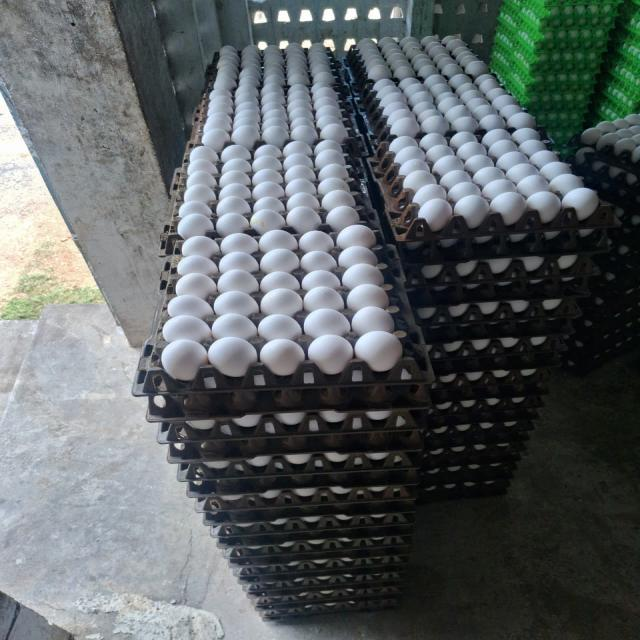egg_tray: (372, 40, 599, 231), (137, 246, 429, 392), (135, 287, 431, 394), (373, 130, 614, 254), (374, 134, 614, 256), (161, 140, 379, 254), (159, 225, 406, 315), (163, 414, 421, 498), (147, 370, 539, 422), (159, 164, 379, 256), (565, 114, 639, 372), (370, 129, 570, 224), (350, 36, 535, 136), (359, 36, 535, 137), (159, 224, 403, 296), (179, 440, 421, 512), (192, 44, 354, 151), (369, 126, 553, 218), (162, 178, 379, 255), (178, 452, 419, 521), (179, 442, 421, 508), (370, 128, 545, 216), (392, 204, 615, 273), (167, 432, 422, 492), (360, 72, 552, 150), (158, 412, 425, 468), (159, 420, 423, 476), (160, 192, 379, 256), (187, 468, 419, 526), (169, 443, 421, 496), (185, 85, 359, 161), (191, 472, 419, 529), (187, 83, 364, 156), (425, 317, 573, 404), (191, 470, 419, 526), (407, 256, 598, 321), (407, 254, 599, 318), (157, 412, 424, 457), (492, 0, 617, 95), (409, 256, 588, 322), (146, 382, 430, 422), (492, 1, 616, 92), (409, 290, 579, 356), (191, 479, 419, 528), (179, 463, 416, 510), (231, 533, 409, 594), (198, 43, 348, 112), (157, 408, 426, 446), (235, 558, 404, 618), (168, 428, 421, 468), (492, 43, 597, 138), (223, 85, 363, 156), (157, 411, 425, 448), (403, 252, 599, 302), (405, 256, 600, 306), (492, 14, 601, 102), (219, 518, 412, 566), (205, 43, 347, 108), (233, 550, 407, 603), (494, 38, 600, 124), (180, 138, 365, 186), (425, 370, 548, 442), (425, 369, 549, 440), (494, 64, 597, 148), (224, 534, 411, 580), (211, 506, 414, 548), (211, 507, 414, 548), (495, 50, 597, 131), (495, 37, 603, 112), (423, 416, 532, 490), (495, 66, 593, 148), (568, 114, 639, 224), (211, 508, 415, 546), (192, 46, 291, 124), (399, 227, 607, 264), (429, 332, 564, 388), (233, 553, 408, 596), (413, 298, 580, 343), (217, 527, 412, 565), (211, 512, 414, 546), (181, 138, 362, 175), (431, 352, 559, 404), (204, 42, 339, 91), (233, 554, 407, 592), (501, 0, 619, 54), (216, 516, 413, 548), (233, 553, 408, 588), (577, 162, 639, 260), (423, 414, 534, 468), (185, 130, 357, 163), (223, 536, 411, 566), (233, 554, 408, 586), (247, 582, 401, 618), (427, 336, 565, 376), (565, 296, 639, 370), (429, 382, 547, 428), (421, 434, 525, 486), (421, 421, 527, 472), (233, 554, 408, 584), (425, 408, 537, 454), (244, 572, 404, 604), (252, 586, 401, 620), (431, 368, 549, 410), (431, 368, 548, 408), (241, 570, 405, 598), (430, 366, 549, 404), (251, 585, 401, 615), (569, 148, 638, 213), (252, 586, 401, 616), (565, 314, 639, 374), (419, 460, 519, 504), (418, 460, 517, 503), (243, 572, 403, 598), (249, 583, 401, 610), (581, 246, 639, 315), (419, 454, 519, 494), (429, 393, 543, 428), (567, 304, 639, 358), (257, 594, 401, 621), (429, 390, 543, 424), (423, 438, 525, 474), (431, 394, 543, 426), (595, 198, 639, 279), (602, 2, 639, 98), (417, 468, 515, 504), (344, 53, 377, 158), (257, 596, 401, 620), (505, 0, 619, 30), (419, 460, 519, 494), (258, 598, 401, 621), (258, 597, 401, 620), (425, 420, 533, 450), (587, 246, 639, 308), (260, 598, 400, 620), (529, 100, 587, 152), (596, 218, 639, 286), (419, 472, 512, 503), (592, 247, 639, 308), (530, 104, 587, 152), (158, 166, 185, 257), (345, 40, 394, 90), (592, 66, 637, 120), (598, 215, 639, 274), (431, 422, 523, 448), (581, 286, 639, 327), (187, 90, 224, 152), (158, 166, 183, 257), (302, 50, 348, 98), (591, 74, 638, 120), (192, 52, 219, 132), (192, 52, 218, 127), (203, 46, 241, 96), (230, 554, 333, 570), (339, 527, 400, 554), (308, 582, 375, 606), (253, 592, 309, 612), (183, 465, 219, 495), (295, 295, 358, 312), (167, 166, 185, 222), (283, 474, 319, 498), (265, 536, 297, 563), (381, 84, 409, 114), (595, 100, 633, 120), (551, 178, 580, 197), (353, 285, 389, 300), (225, 542, 255, 559), (240, 576, 275, 590), (383, 37, 415, 52), (370, 500, 395, 519), (303, 530, 333, 544), (397, 56, 417, 76), (487, 183, 516, 196), (543, 200, 560, 222), (479, 172, 499, 190), (376, 544, 406, 556), (349, 416, 370, 433), (559, 256, 584, 270), (463, 216, 483, 232), (343, 550, 375, 560), (455, 262, 480, 274), (333, 570, 357, 582), (545, 50, 581, 58), (512, 168, 536, 180), (255, 416, 275, 430), (190, 146, 213, 158), (317, 232, 333, 249), (565, 33, 583, 48), (521, 180, 534, 200), (327, 452, 356, 460), (540, 38, 563, 48), (301, 528, 324, 538), (623, 43, 637, 58), (511, 206, 525, 221), (314, 459, 330, 472), (555, 322, 572, 334), (214, 176, 229, 189), (383, 584, 399, 596), (456, 46, 469, 60), (187, 240, 205, 250), (449, 308, 467, 318), (310, 528, 328, 538), (239, 234, 257, 244), (327, 566, 349, 574), (606, 209, 616, 226), (432, 220, 449, 230), (339, 508, 348, 526), (546, 167, 569, 174), (366, 514, 386, 522), (279, 174, 295, 184), (450, 214, 460, 230), (345, 226, 371, 232), (430, 187, 444, 198), (283, 232, 297, 243), (200, 461, 221, 468), (539, 155, 555, 164), (245, 540, 257, 552), (295, 547, 308, 558), (318, 105, 338, 112), (409, 78, 423, 88), (497, 138, 511, 148), (221, 421, 233, 432), (165, 280, 175, 293), (456, 174, 472, 182), (226, 96, 235, 110), (447, 39, 461, 48), (430, 349, 444, 358), (467, 217, 478, 228), (268, 512, 281, 521), (405, 42, 419, 50), (375, 514, 391, 521), (311, 528, 322, 538), (252, 556, 262, 566), (546, 167, 560, 174), (212, 460, 228, 466), (311, 454, 323, 462), (231, 524, 244, 531), (307, 417, 317, 426), (471, 450, 486, 456), (533, 154, 542, 164), (546, 155, 557, 163), (297, 488, 314, 493), (291, 98, 305, 104), (263, 490, 277, 496), (310, 548, 317, 560), (533, 326, 543, 334), (381, 298, 391, 306), (351, 516, 364, 522), (450, 310, 461, 317), (386, 556, 405, 560), (385, 514, 404, 518), (467, 246, 482, 251), (333, 576, 345, 582), (527, 385, 535, 394), (264, 416, 273, 424), (223, 90, 232, 98), (271, 456, 283, 462), (252, 457, 265, 462), (556, 102, 564, 110), (283, 518, 299, 522), (385, 512, 401, 516), (275, 464, 283, 472), (483, 232, 491, 240), (497, 96, 513, 100), (299, 488, 308, 495), (292, 56, 299, 65), (165, 334, 175, 340), (299, 272, 305, 282), (234, 148, 244, 154), (341, 576, 351, 582), (205, 518, 215, 524), (245, 588, 259, 592), (513, 170, 520, 178), (286, 278, 293, 286), (438, 427, 446, 434), (303, 516, 317, 520), (358, 492, 365, 500), (214, 526, 228, 530), (294, 106, 305, 111), (512, 130, 523, 135), (372, 514, 383, 519), (612, 286, 621, 292), (307, 61, 313, 70), (261, 90, 270, 96), (228, 504, 241, 508), (372, 452, 389, 455), (309, 324, 314, 334), (333, 487, 343, 492), (249, 456, 259, 461), (281, 306, 288, 313), (203, 147, 210, 154), (275, 155, 282, 162), (185, 444, 197, 448), (205, 158, 217, 162), (385, 416, 391, 424), (467, 186, 475, 192), (336, 266, 342, 274), (321, 496, 327, 504), (313, 180, 319, 188), (205, 151, 213, 157), (411, 450, 419, 456), (629, 220, 637, 226), (322, 76, 328, 84), (545, 94, 553, 100), (483, 132, 491, 138), (379, 255, 388, 260), (321, 543, 330, 548), (212, 96, 223, 100), (549, 59, 560, 63), (169, 310, 176, 316), (221, 204, 227, 211), (371, 52, 378, 58), (283, 582, 290, 588), (631, 60, 636, 68), (223, 544, 243, 546), (215, 482, 220, 490), (597, 256, 603, 262), (512, 156, 521, 160), (435, 266, 441, 272), (563, 326, 569, 332), (267, 586, 276, 590), (277, 546, 286, 550), (371, 586, 380, 590), (265, 490, 272, 495), (240, 427, 251, 430), (274, 518, 285, 521), (281, 496, 285, 504), (485, 372, 493, 376), (416, 234, 424, 238), (376, 444, 384, 448), (402, 442, 410, 446), (207, 204, 215, 208), (200, 164, 205, 170), (155, 333, 160, 339), (155, 326, 161, 331), (198, 421, 204, 426), (243, 416, 253, 419), (307, 157, 312, 163), (329, 524, 334, 530), (382, 504, 387, 510), (263, 100, 270, 104), (247, 184, 254, 188), (496, 201, 500, 208), (418, 223, 423, 228), (443, 279, 448, 284), (214, 274, 219, 279), (531, 199, 536, 204), (281, 157, 286, 162), (277, 99, 282, 104), (287, 585, 295, 588), (510, 328, 514, 334), (505, 436, 511, 440), (531, 130, 537, 134), (501, 162, 507, 166), (329, 527, 335, 531), (341, 520, 347, 524), (409, 444, 415, 448), (443, 232, 449, 236), (594, 202, 597, 210), (260, 540, 266, 544), (283, 496, 286, 504), (269, 548, 277, 551), (489, 490, 495, 494), (413, 458, 417, 464), (292, 44, 296, 50), (432, 492, 436, 498), (279, 518, 291, 520), (309, 611, 320, 613), (581, 211, 584, 218), (190, 241, 197, 244), (199, 236, 206, 239), (321, 498, 326, 502), (553, 154, 557, 159), (523, 153, 528, 157), (353, 528, 358, 532), (321, 497, 326, 501), (384, 546, 389, 550), (325, 170, 330, 174), (548, 94, 553, 98), (317, 170, 322, 174), (616, 208, 621, 212), (353, 579, 357, 584), (303, 534, 308, 538), (379, 526, 383, 531), (461, 308, 466, 312), (221, 63, 227, 66), (387, 278, 390, 284), (392, 550, 401, 552), (404, 306, 407, 312), (426, 56, 429, 62), (397, 52, 403, 55), (385, 43, 391, 46), (284, 82, 290, 85), (556, 336, 559, 342), (397, 538, 403, 541), (262, 490, 270, 492), (543, 58, 547, 62), (514, 50, 518, 54), (519, 45, 523, 49), (402, 326, 406, 330), (241, 420, 245, 424), (522, 170, 530, 172), (613, 64, 617, 68), (209, 242, 213, 246), (241, 580, 257, 581), (345, 514, 349, 518), (357, 461, 361, 465), (340, 554, 344, 558), (395, 494, 399, 498), (237, 102, 241, 106), (271, 150, 279, 152), (453, 320, 461, 322), (221, 482, 225, 486), (451, 235, 455, 239), (517, 396, 521, 400), (377, 520, 381, 524), (221, 518, 225, 522), (441, 224, 445, 228), (385, 538, 393, 540), (539, 389, 544, 392), (531, 58, 536, 61), (360, 496, 365, 499), (441, 384, 446, 387), (331, 452, 334, 457), (157, 333, 160, 338), (198, 276, 203, 279), (252, 589, 257, 592), (226, 241, 231, 244), (587, 211, 590, 216), (252, 590, 257, 593), (506, 260, 509, 265), (394, 577, 401, 579), (583, 227, 585, 234), (382, 446, 389, 448), (496, 54, 499, 58), (283, 585, 287, 588), (309, 581, 313, 584), (354, 578, 358, 581), (256, 154, 259, 158), (309, 126, 312, 130), (256, 115, 259, 119), (307, 112, 310, 116), (537, 41, 541, 44), (423, 268, 426, 272), (205, 138, 209, 141), (387, 577, 393, 579), (239, 206, 245, 208), (210, 231, 214, 234), (402, 531, 406, 534), (238, 97, 242, 100), (206, 179, 210, 182), (219, 176, 223, 179), (227, 241, 231, 244), (519, 316, 525, 318), (606, 276, 610, 279), (387, 158, 390, 162), (408, 278, 412, 281), (469, 469, 473, 472), (571, 74, 575, 77), (154, 330, 157, 334), (263, 100, 269, 102), (293, 83, 297, 86), (194, 456, 197, 460), (320, 532, 323, 536), (380, 567, 384, 570), (305, 604, 311, 606), (328, 416, 333, 418), (512, 164, 517, 166), (397, 416, 402, 418), (159, 326, 161, 331), (559, 103, 561, 108), (272, 234, 277, 236), (321, 558, 326, 560), (321, 552, 326, 554), (302, 542, 307, 544), (547, 342, 549, 347), (324, 132, 327, 135), (397, 326, 400, 329), (532, 278, 541, 279), (313, 509, 316, 512), (405, 505, 408, 508), (266, 87, 269, 90), (314, 553, 317, 556), (530, 65, 533, 68), (210, 483, 213, 486), (263, 585, 266, 588), (533, 165, 536, 168), (333, 116, 337, 118), (527, 380, 531, 382), (357, 322, 359, 326), (173, 304, 177, 306), (229, 111, 233, 113), (205, 432, 209, 434), (365, 422, 367, 426), (245, 416, 253, 417), (373, 568, 375, 572), (251, 522, 255, 524), (319, 516, 321, 520), (268, 564, 272, 566), (357, 552, 361, 554), (263, 512, 265, 516), (287, 512, 291, 514), (197, 147, 205, 148), (563, 138, 567, 140), (227, 168, 231, 170), (287, 454, 291, 456), (532, 374, 534, 378), (311, 236, 315, 238), (243, 80, 247, 82), (231, 74, 235, 76), (365, 554, 369, 556), (405, 117, 409, 119), (441, 78, 443, 82), (541, 146, 545, 148), (487, 318, 491, 320), (430, 412, 432, 416), (277, 554, 281, 556), (431, 185, 438, 186), (273, 586, 276, 588), (523, 133, 525, 136), (262, 150, 265, 152), (511, 392, 514, 394), (397, 317, 399, 320), (234, 424, 237, 426), (398, 92, 401, 94), (341, 450, 343, 453), (372, 448, 375, 450), (367, 448, 370, 450), (291, 414, 294, 416), (571, 270, 574, 272), (383, 270, 386, 272), (379, 263, 381, 266), (384, 506, 387, 508), (247, 522, 250, 524), (285, 150, 287, 153), (324, 146, 327, 148), (421, 51, 423, 54), (378, 158, 381, 160), (387, 49, 390, 51), (274, 444, 277, 446), (439, 497, 445, 498), (432, 496, 435, 498), (509, 69, 511, 72), (525, 376, 528, 378), (311, 232, 313, 235), (276, 92, 279, 94), (305, 84, 308, 86), (316, 46, 318, 49), (329, 530, 332, 532), (434, 224, 437, 226), (246, 416, 251, 417), (423, 92, 428, 93), (525, 380, 527, 382), (549, 67, 553, 68), (255, 310, 257, 312), (196, 110, 198, 112), (467, 242, 469, 244), (445, 184, 447, 186), (312, 418, 314, 420), (301, 286, 303, 288), (245, 589, 249, 590), (202, 215, 204, 217), (209, 155, 213, 156), (239, 562, 243, 563), (265, 464, 267, 466), (391, 547, 395, 548), (409, 502, 411, 504), (341, 170, 343, 172), (272, 157, 274, 159), (265, 146, 267, 148), (499, 491, 503, 492), (187, 246, 188, 250), (221, 200, 223, 202), (435, 322, 439, 323), (501, 307, 505, 308), (403, 70, 405, 72), (281, 169, 285, 170), (633, 216, 635, 218), (599, 224, 603, 225), (417, 62, 419, 64), (563, 140, 565, 142), (232, 461, 234, 463), (461, 224, 463, 226), (472, 437, 474, 439), (351, 130, 352, 134), (367, 532, 369, 534), (331, 526, 333, 528), (263, 236, 265, 238), (351, 464, 353, 466), (360, 454, 362, 456), (362, 578, 364, 580), (253, 550, 257, 551), (335, 548, 337, 550), (288, 546, 290, 548), (265, 545, 269, 546), (385, 38, 387, 40), (637, 166, 639, 168), (389, 553, 391, 555), (329, 581, 332, 582), (434, 354, 437, 355), (496, 189, 499, 190), (341, 455, 344, 456), (532, 207, 535, 208), (236, 54, 237, 57), (524, 370, 527, 371), (292, 298, 293, 300), (270, 503, 272, 504), (476, 184, 477, 186), (434, 282, 435, 284), (427, 432, 429, 433), (338, 573, 340, 574), (194, 456, 195, 458), (195, 458, 196, 460), (396, 461, 397, 463), (252, 554, 254, 555), (363, 540, 365, 541), (294, 158, 295, 160), (293, 146, 294, 148), (329, 193, 330, 195), (558, 270, 559, 272), (227, 487, 228, 489), (352, 47, 353, 49), (396, 202, 397, 204), (396, 78, 397, 80), (371, 49, 372, 51), (218, 473, 219, 475), (374, 452, 375, 454), (291, 244, 292, 246), (551, 178, 553, 179), (253, 93, 254, 95), (629, 194, 630, 195), (558, 160, 559, 161), (452, 321, 453, 322), (345, 527, 346, 528), (391, 489, 392, 490), (218, 96, 219, 97), (287, 558, 288, 559), (333, 61, 334, 62), (170, 460, 171, 461), (509, 222, 510, 223), (427, 432, 428, 433), (429, 422, 430, 423), (390, 578, 394, 578), (441, 407, 444, 407), (563, 319, 563, 319), (274, 103, 277, 103), (256, 90, 257, 90), (259, 163, 259, 163), (256, 125, 257, 125), (499, 332, 501, 332), (425, 294, 425, 295), (567, 292, 568, 292), (389, 514, 394, 514), (216, 336, 221, 336), (363, 314, 364, 314), (203, 308, 203, 308), (323, 290, 323, 290), (227, 474, 228, 474), (281, 416, 281, 417), (507, 430, 507, 430), (458, 375, 459, 375), (510, 190, 512, 190), (503, 176, 503, 176), (509, 168, 510, 168), (498, 167, 499, 167), (251, 101, 252, 101), (496, 263, 498, 263), (315, 490, 316, 490), (427, 448, 428, 448), (520, 392, 521, 392), (578, 128, 579, 128), (633, 92, 635, 92), (532, 274, 533, 274), (223, 274, 223, 275), (312, 272, 313, 272), (221, 92, 222, 92), (270, 563, 272, 563), (210, 254, 212, 254), (280, 234, 281, 234), (229, 214, 230, 214), (204, 212, 207, 212), (371, 519, 373, 519), (286, 519, 289, 519), (480, 452, 481, 452), (463, 410, 467, 410), (533, 403, 535, 403), (296, 499, 297, 499), (227, 468, 227, 468), (363, 465, 364, 465), (559, 198, 559, 198), (237, 469, 237, 469), (366, 467, 368, 467), (292, 414, 293, 414), (453, 470, 457, 470), (299, 545, 299, 546), (369, 490, 371, 490), (227, 190, 229, 190), (252, 561, 253, 561), (254, 559, 255, 559), (298, 556, 299, 556), (289, 550, 290, 550), (634, 72, 635, 72), (334, 190, 337, 190), (231, 172, 234, 172), (187, 253, 187, 254), (211, 245, 212, 245), (209, 243, 210, 243), (542, 314, 544, 314), (461, 268, 461, 270), (605, 254, 605, 254), (162, 254, 163, 254), (417, 292, 418, 292), (636, 272, 637, 272), (268, 529, 269, 529), (425, 39, 427, 39), (332, 452, 335, 452), (231, 67, 233, 67), (225, 63, 226, 63), (297, 614, 301, 614), (293, 614, 296, 614), (560, 343, 562, 343), (443, 436, 444, 436), (432, 383, 433, 383), (327, 536, 332, 536), (283, 605, 285, 605), (567, 74, 569, 74), (183, 245, 183, 247), (347, 102, 347, 104), (244, 92, 247, 92), (338, 556, 340, 556), (333, 556, 335, 556), (356, 556, 357, 556), (336, 532, 338, 532), (556, 3, 558, 3), (558, 208, 559, 208), (533, 203, 534, 203), (534, 185, 535, 185), (436, 99, 437, 99), (472, 99, 474, 99), (441, 498, 443, 498), (492, 419, 494, 419), (541, 143, 543, 143), (313, 581, 314, 581), (329, 530, 330, 530), (356, 517, 358, 517), (454, 321, 455, 321), (543, 314, 544, 314), (247, 594, 248, 594), (267, 584, 267, 586), (251, 92, 253, 92)
